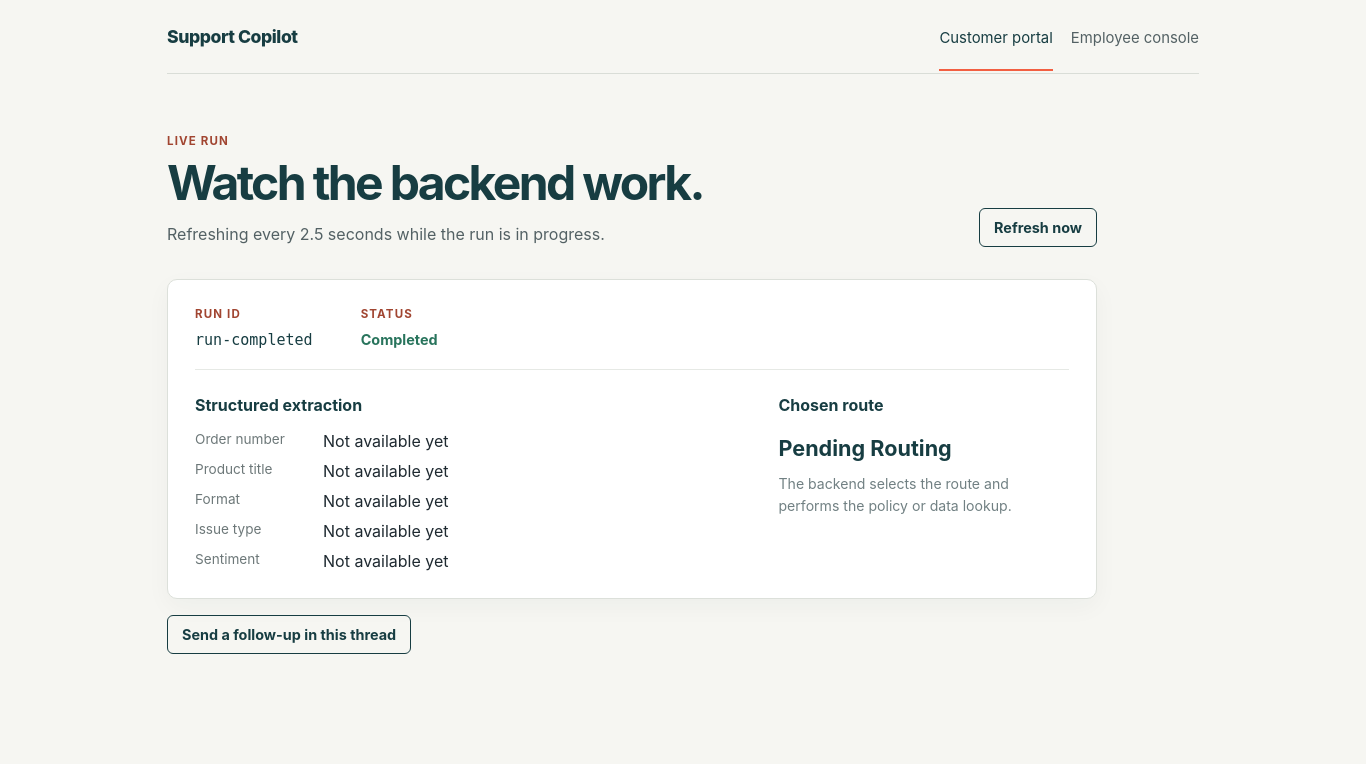
Test: App navigation › opens a customer follow-up and shows the daily budget message
Step 1. Click the button "Send a follow-up in this thread" → (289, 634), box [167,615,411,654]
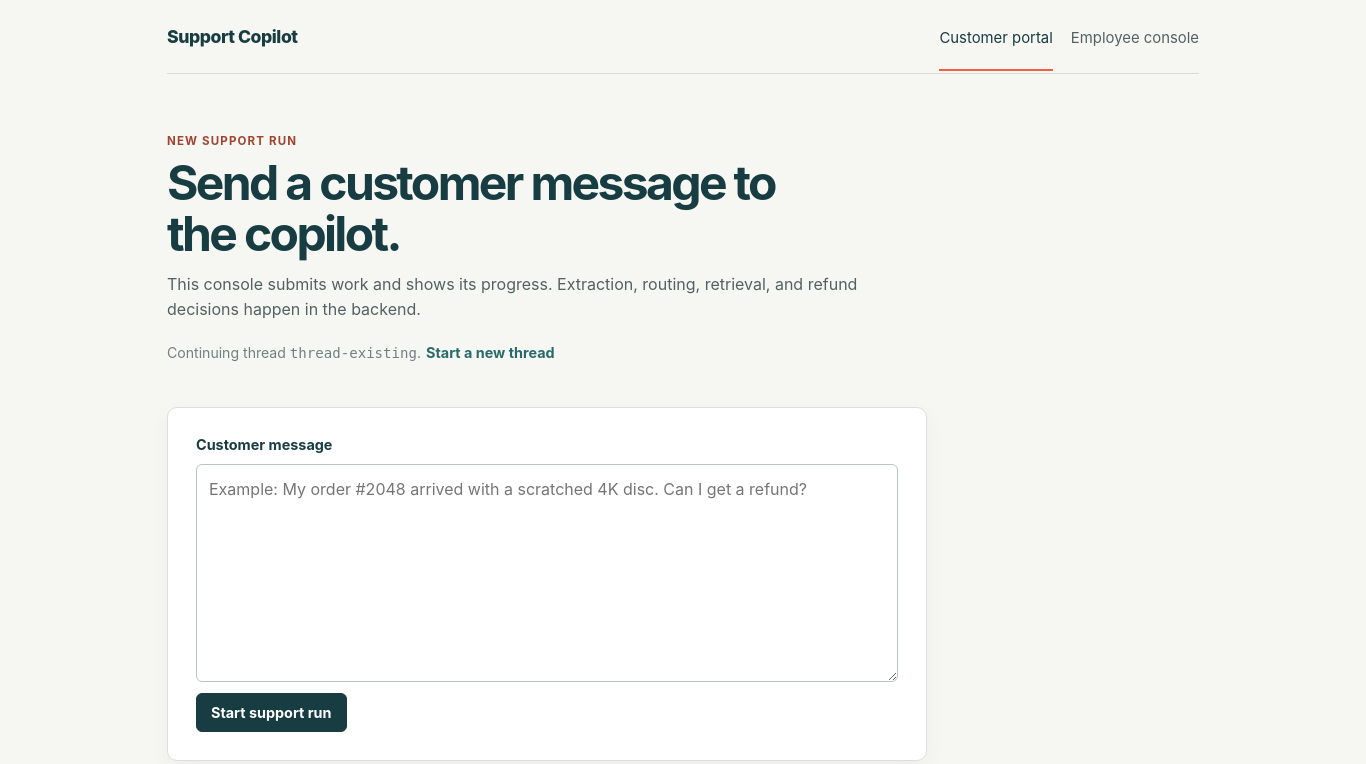
Step 2. Type "Can you clarify that?" into the text box labelled "Customer message" → (547, 573), box [196,464,898,682]
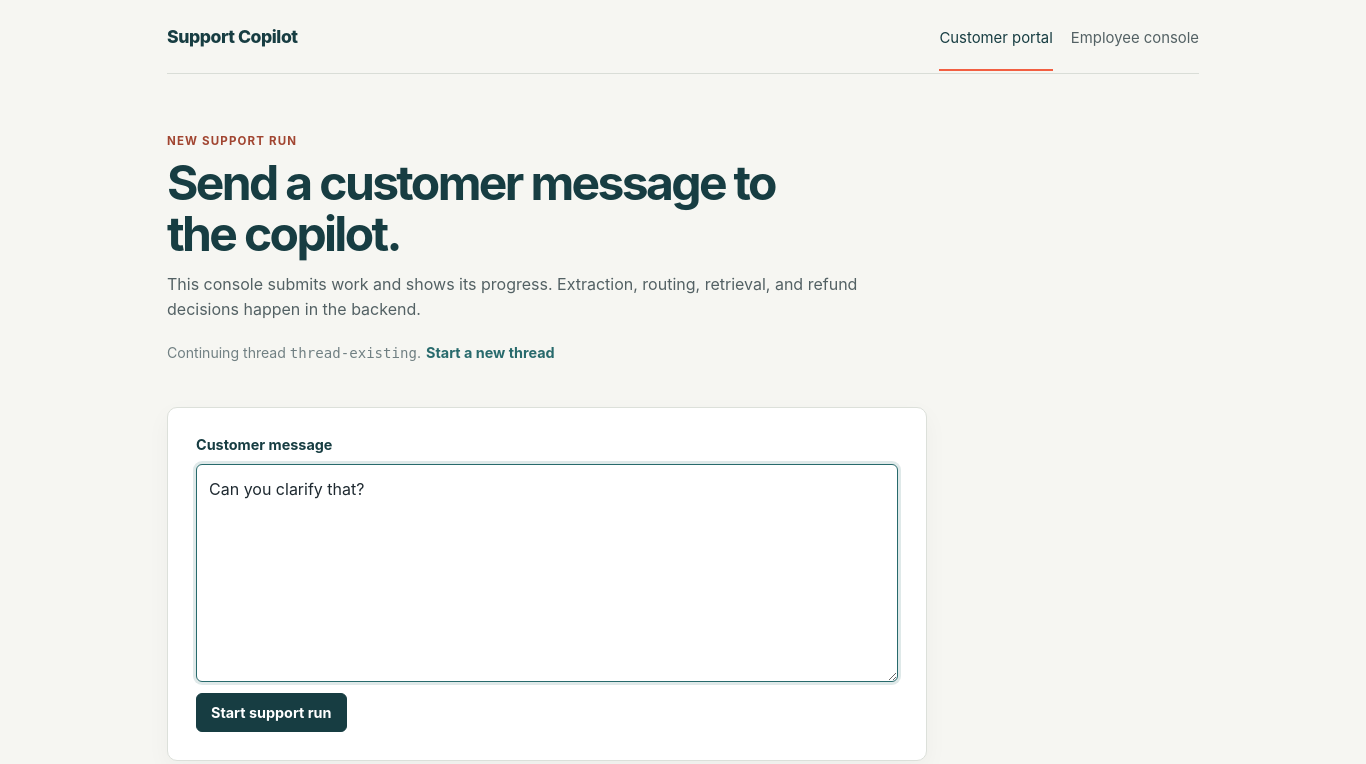
Step 3. Click the button "Start support run" → (271, 713), box [196,693,346,732]
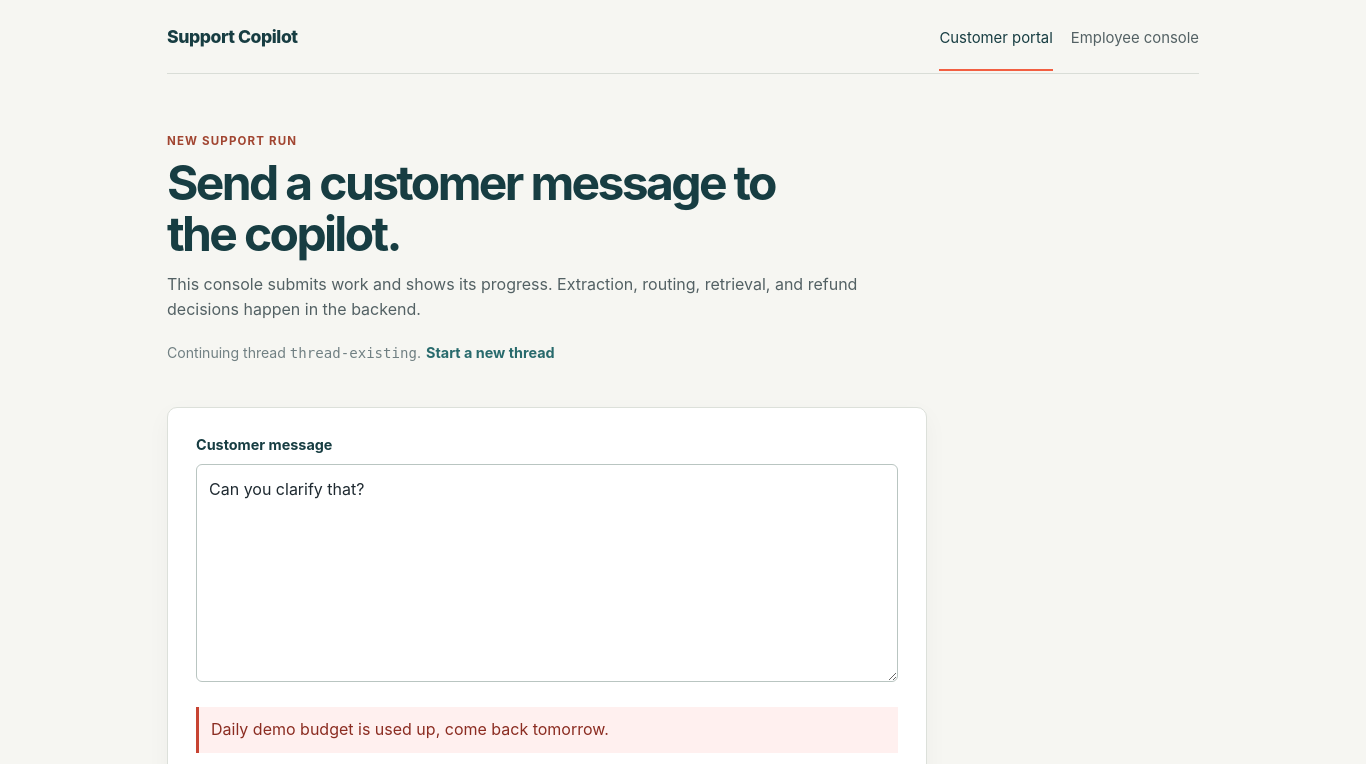
Check: the message reads "Daily demo budget is used up, come back tomorrow.", box [211,719,609,739]
